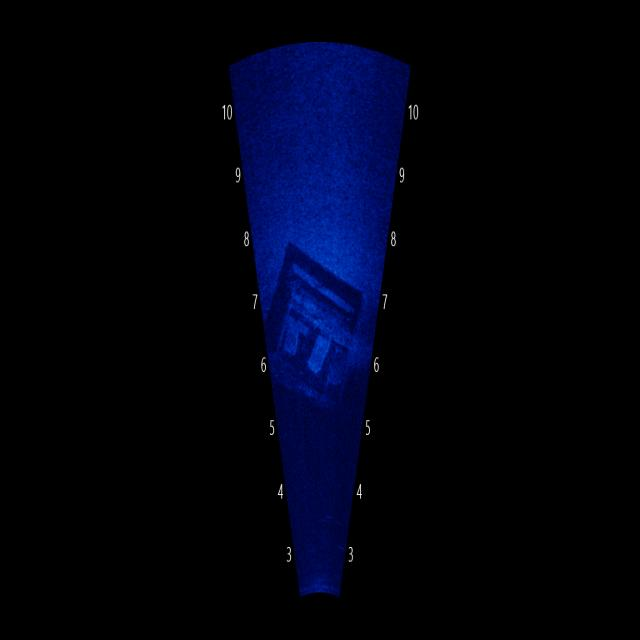square: (258, 237, 368, 431)
